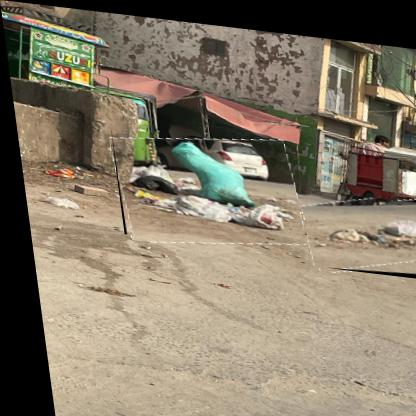Garbage: (108, 122, 302, 251), (297, 183, 416, 274)
